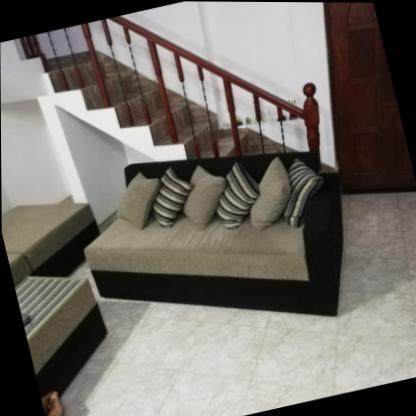Sofa: (66, 118, 369, 370)
